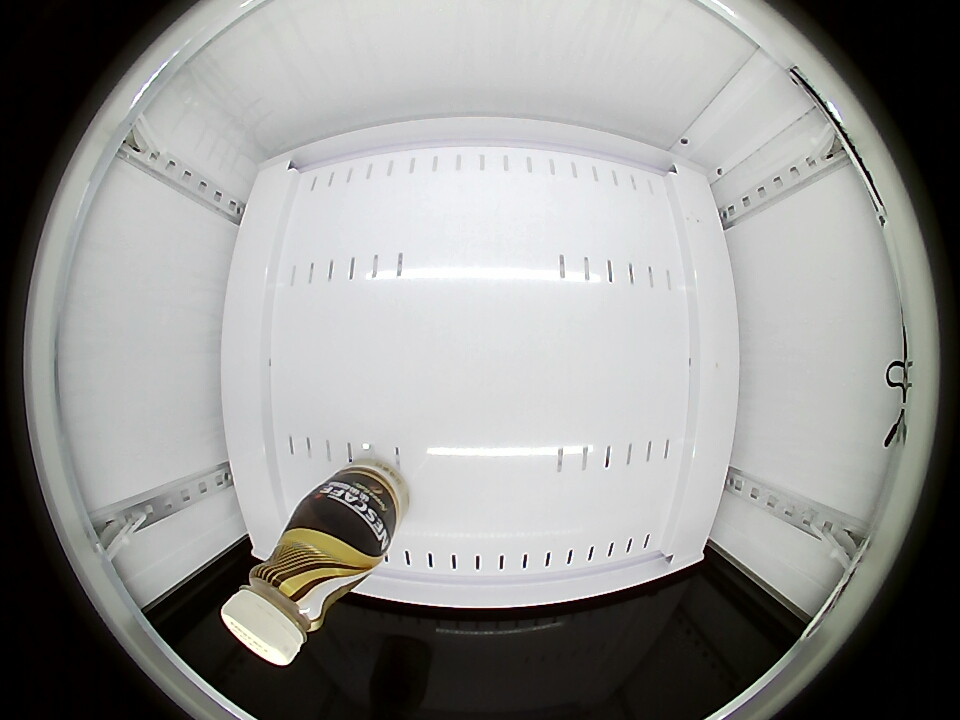kafei: (222, 513, 379, 666)
